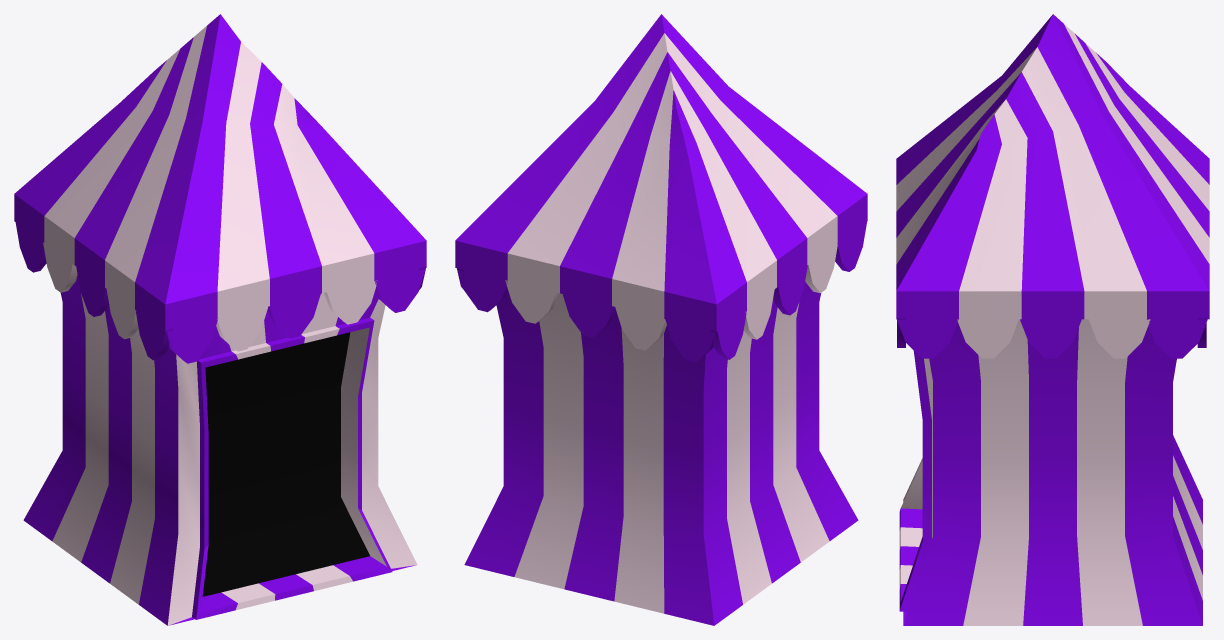
The model's file is BarracaRoxa.fbx.
The picture shows the model from 3 angles, left to right: view 1: azimuth 30°, elevation 25°; view 2: azimuth 150°, elevation 25°; view 3: azimuth 270°, elevation 25°; orthographic projection. The views are drawn at different scales.
Visible parts, largest first — view 1: BarracaRoxa; view 2: BarracaRoxa; view 3: BarracaRoxa.
Boxes of the visible parts, left/top/right/bottom form: BarracaRoxa: left=14, top=14, right=426, bottom=625; BarracaRoxa: left=455, top=14, right=867, bottom=625; BarracaRoxa: left=896, top=14, right=1209, bottom=625.
Size of the model in its own units: 237 by 458 by 237.
1 material, 1 textured.
